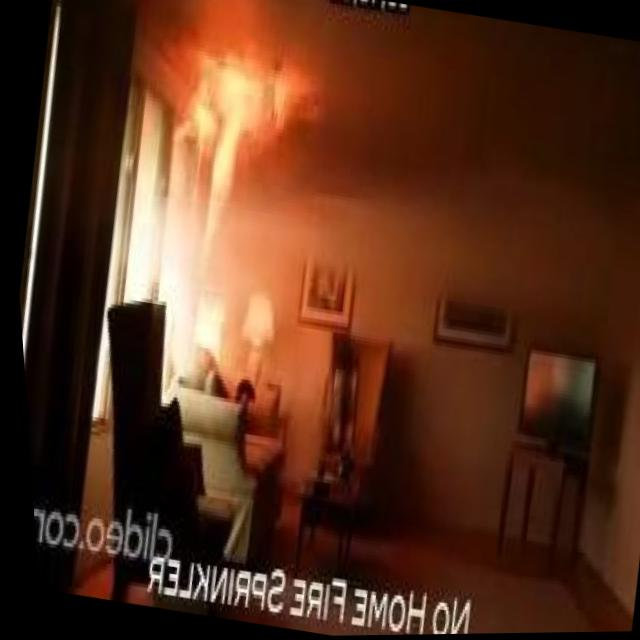fire: (190, 44, 324, 269), (169, 45, 231, 162)
